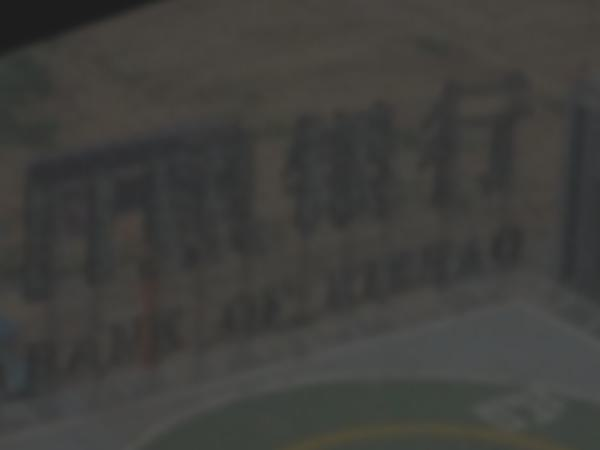Apron: (249, 377, 599, 450)
